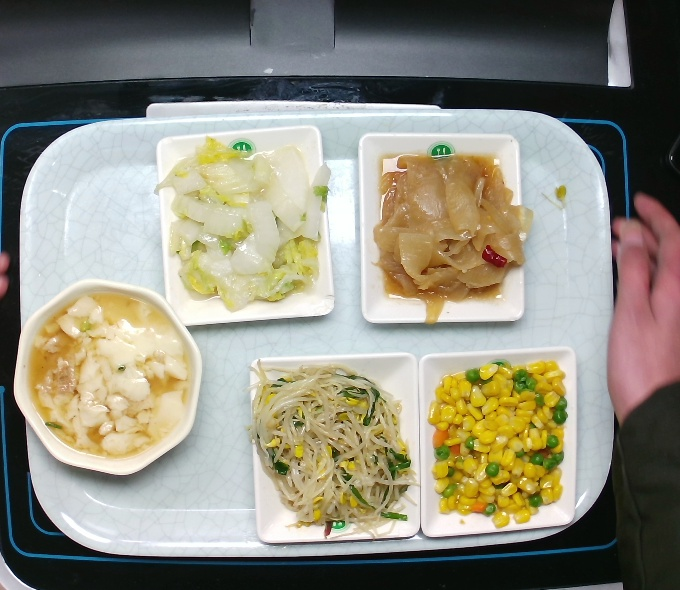wcq-DaBaiCai: (145, 128, 338, 317)
wcq-DongGua: (369, 147, 534, 326)
wcq-DouYa: (240, 352, 424, 551)
wcq-ShuiZhengDan: (21, 287, 197, 463)
wcq-TianMiTianDou: (423, 356, 573, 533)
